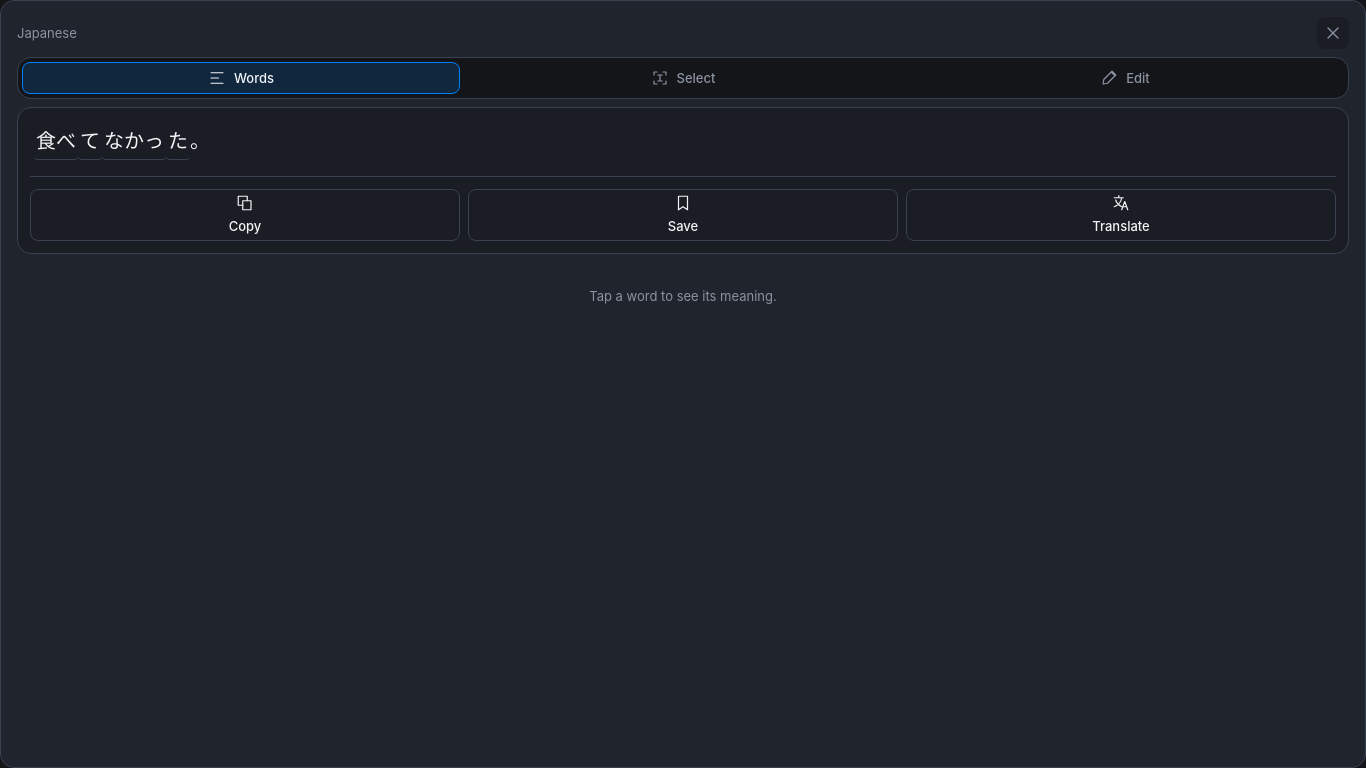
Test: shows the full casual continuing-state chain when clicking the verb stem
Click the button "食べ" at (56, 142), box [34,124,78,160]
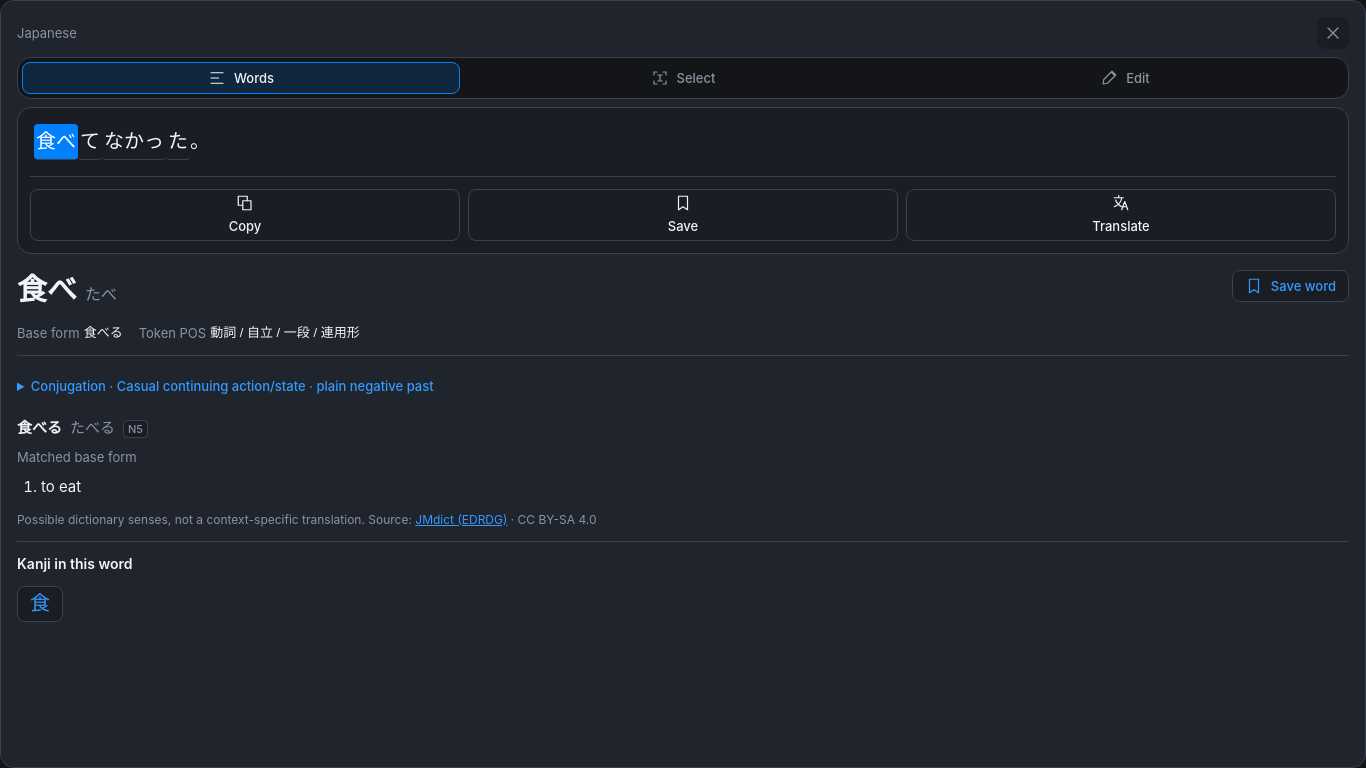
expect the element with class "conjugation-explanation" shows "Casual continuing action/state · plain negative past": met, box [117,378,434,394]
